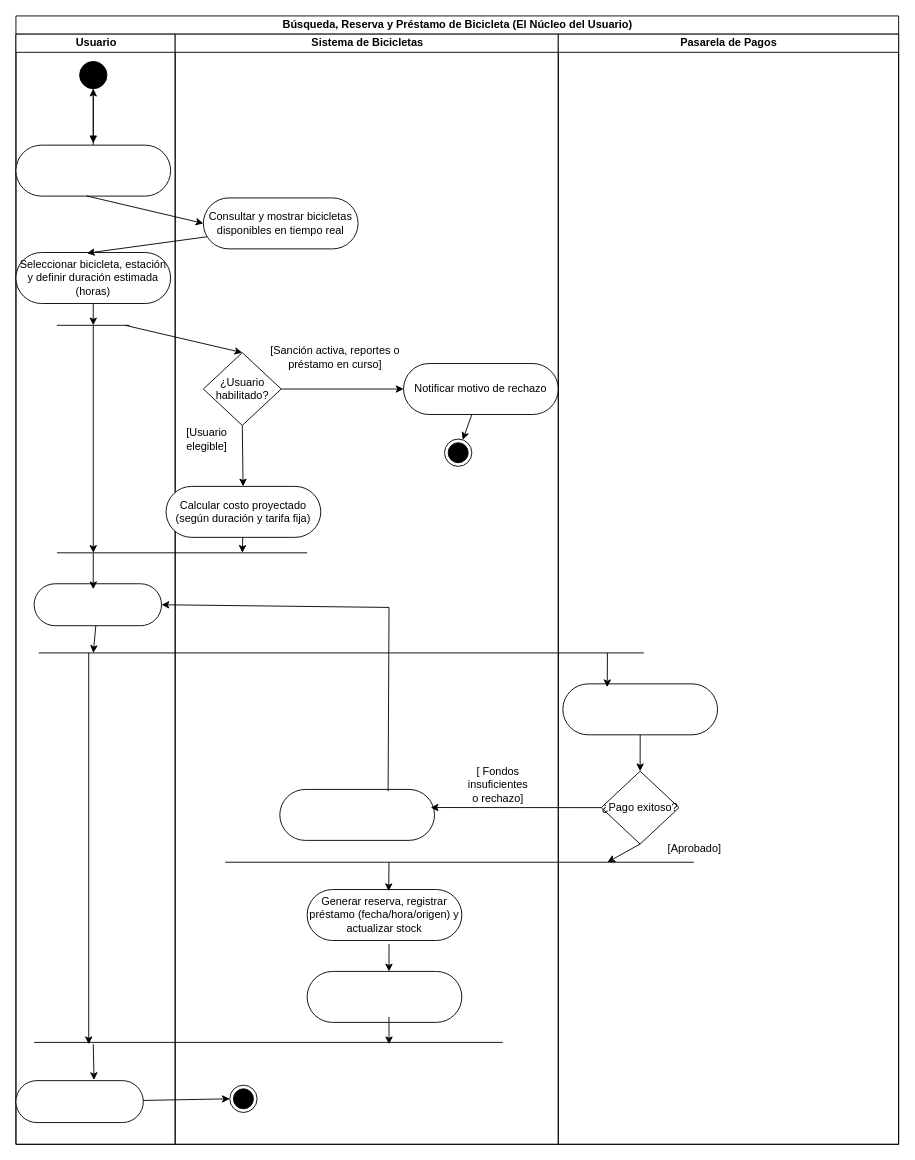
Image size: 915x1160. Some labels were removed from this diagram. Each missing label, with the centre of its shape:
Confirmar datos y solicitar inicio de pago: point 97,604
Enviar notificación con resumen de reserva y tiempo restante al usuario: point 384,996
Ingresar filtros (Sede, Tipo, Tamaño, Marca): point 93,170
Notificar fallo de pago y permitir reintento: point 357,814
Procesar transacción de pago: point 640,709
Visualizar confirmación de reserva y tiempo activo: point 79,1101
